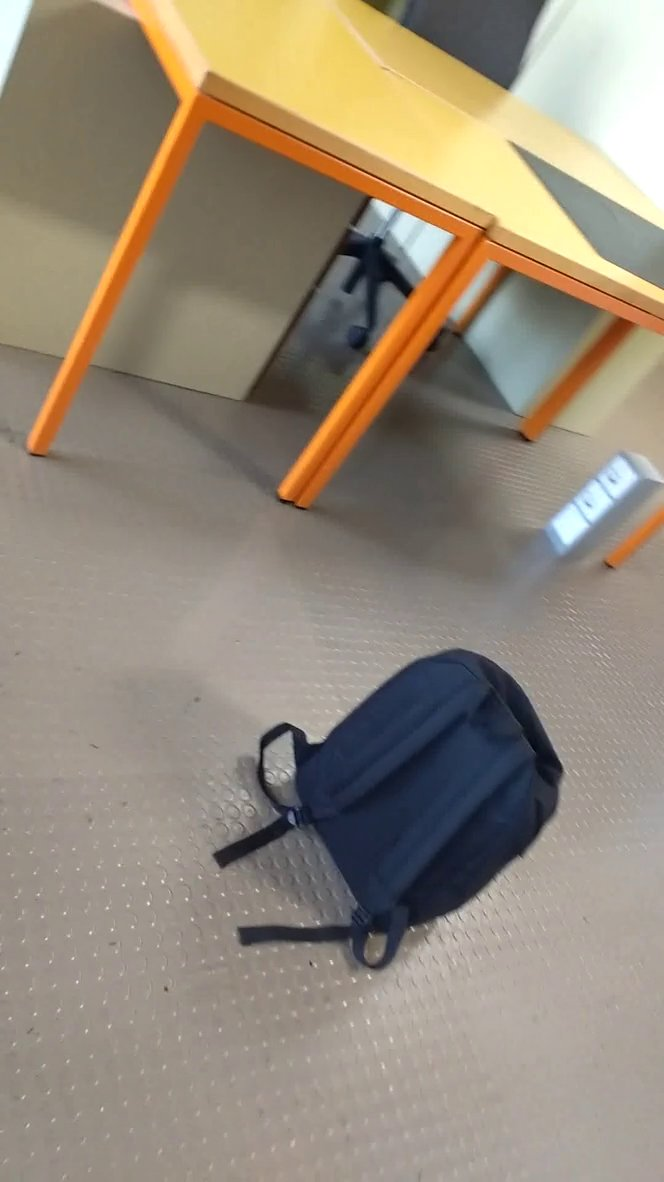bag: (207, 633, 578, 986)
